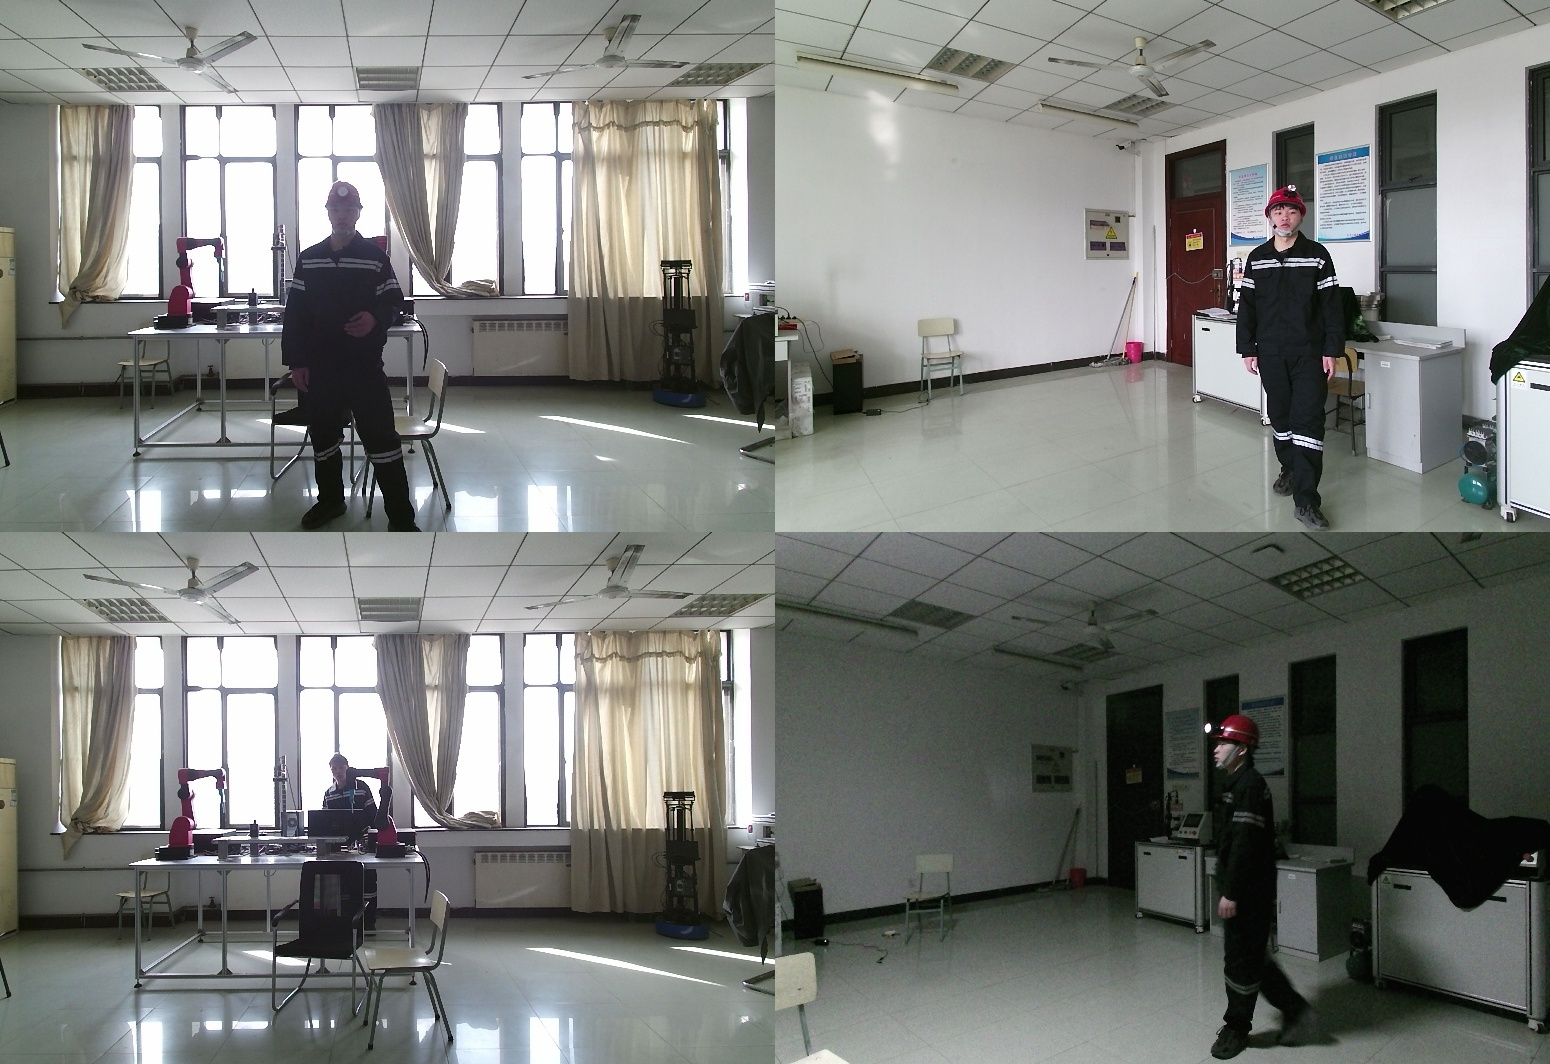person: (283, 182, 417, 532), (1165, 712, 1288, 1064), (1243, 188, 1356, 528), (315, 755, 381, 935)
